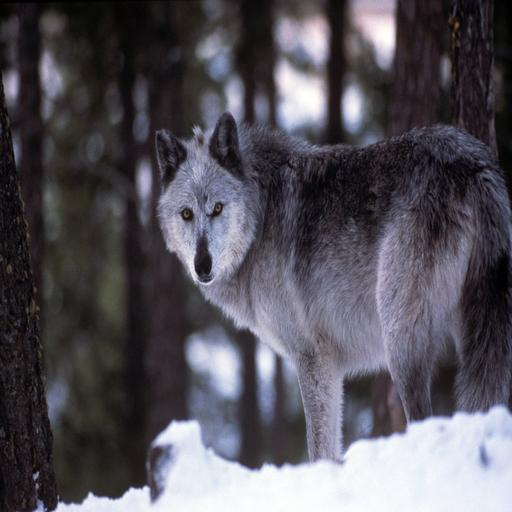Wolf: (155, 110, 512, 465)
